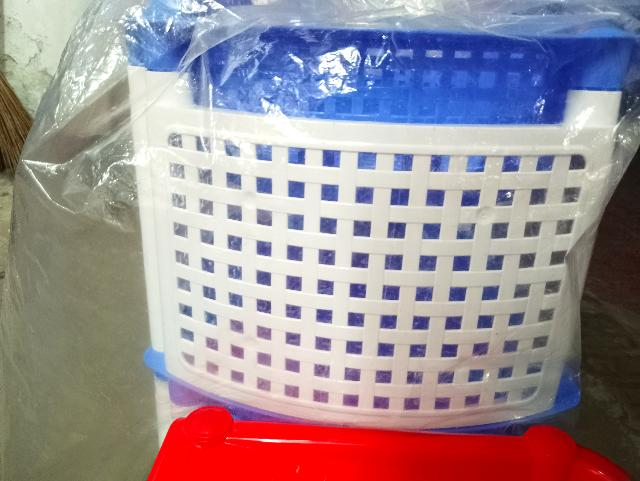hardplastic: (106, 0, 640, 432)
